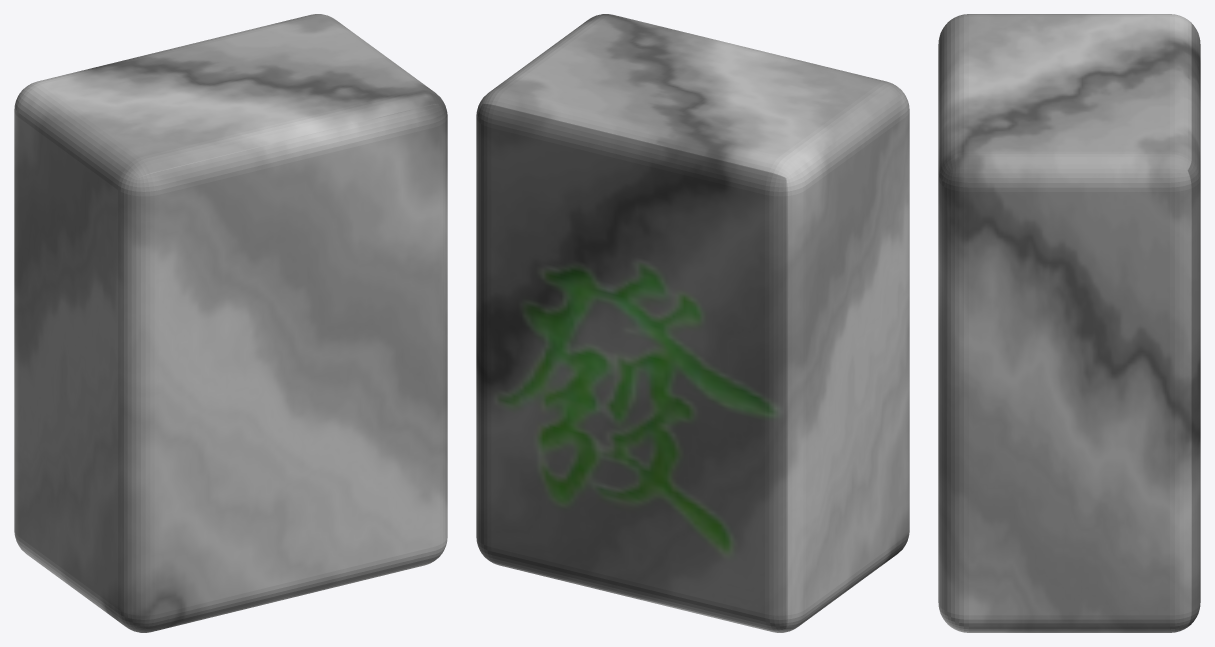
The model's file is honor6.fbx.
3 renders of one model, left to right at view 1: azimuth 30°, elevation 25°; view 2: azimuth 150°, elevation 25°; view 3: azimuth 270°, elevation 25°, orthographic.
Visible parts, largest first — view 1: honor6; view 2: honor6; view 3: honor6.
Boxes of the visible parts, x1,y1,x2,y2 form: honor6: (14, 14, 447, 632); honor6: (476, 14, 909, 632); honor6: (938, 14, 1200, 632).
Size of the model in its own units: 100 by 139 by 69.
Materials: 1 (1 with a texture image).
